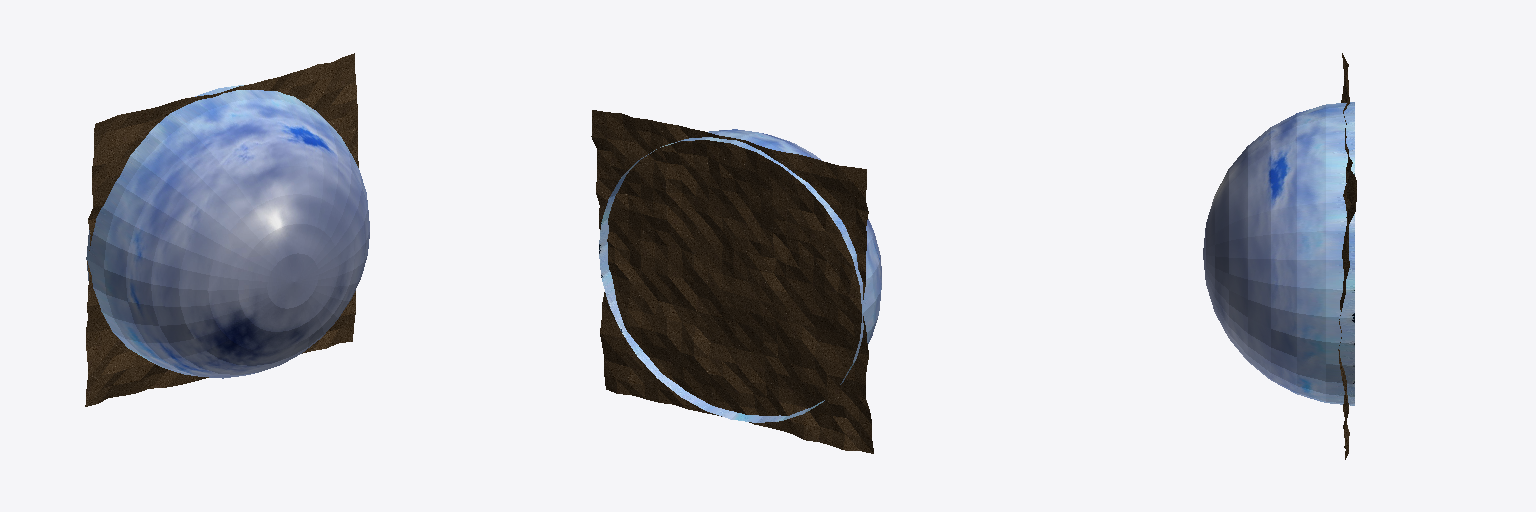
3 views of the same model, side by side, from view 1: azimuth 30°, elevation 25°; view 2: azimuth 150°, elevation 25°; view 3: azimuth 270°, elevation 25° (orthographic).
Parts seen in each view (by area): view 1: Sphere001, Plane001; view 2: Plane001, Sphere001; view 3: Sphere001, Plane001.
Part boxes in pixels (left/top/right/bottom): Sphere001: left=86, top=85, right=369, bottom=378; Plane001: left=85, top=53, right=358, bottom=406; Plane001: left=591, top=110, right=873, bottom=453; Sphere001: left=599, top=129, right=881, bottom=422; Sphere001: left=1203, top=102, right=1354, bottom=405; Plane001: left=1338, top=53, right=1356, bottom=459.
Size of the model in its own units: 5126 by 4993 by 2472.
Materials: 2 (2 with a texture image).